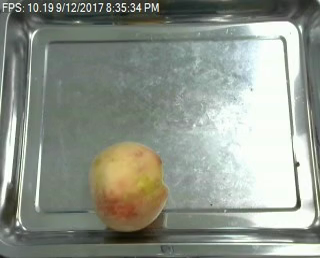Peach: (89, 140, 168, 232)
